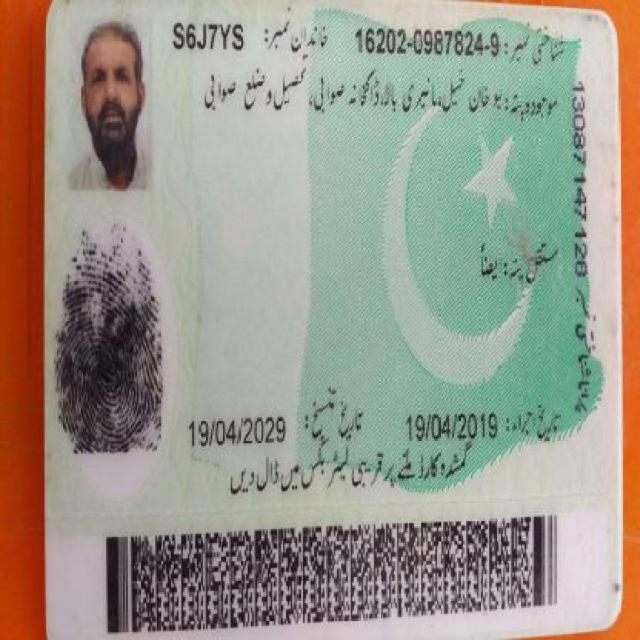Back: (40, 8, 618, 618)
